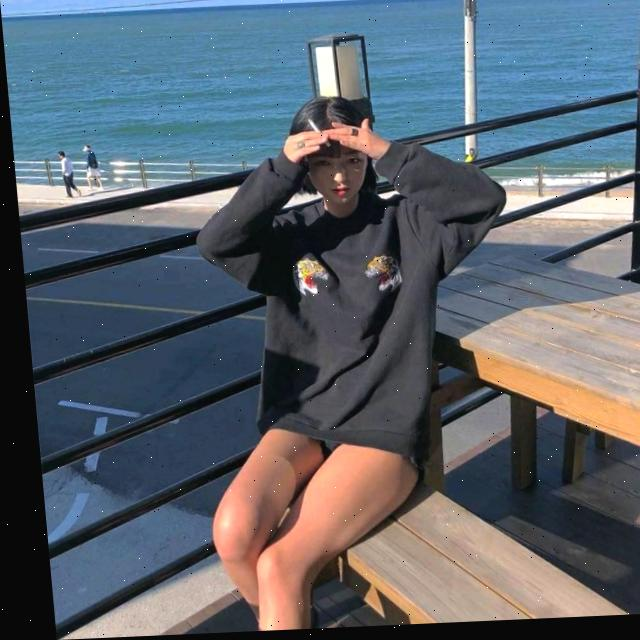cigarette: (304, 120, 328, 151)
